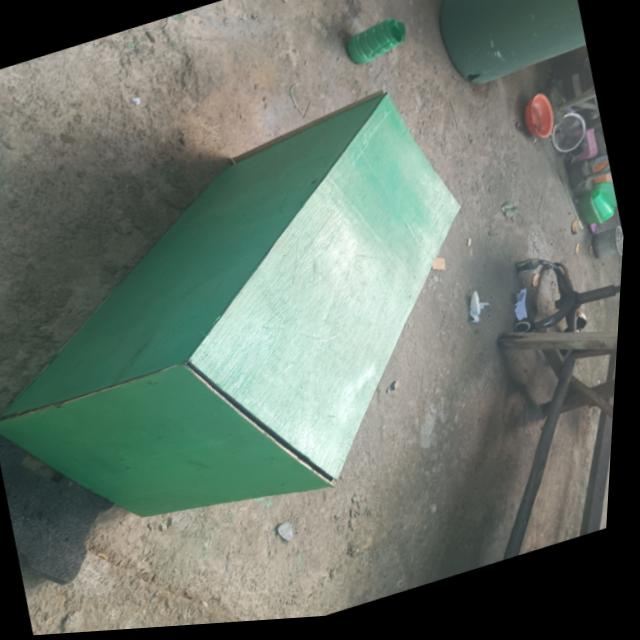green_box: (0, 56, 569, 595)
